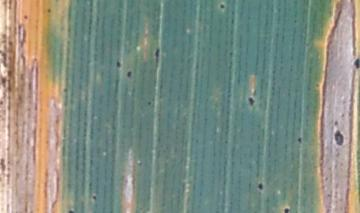tarspot: (333, 129, 345, 147), (152, 44, 161, 66), (255, 181, 265, 193), (113, 58, 123, 70), (353, 56, 360, 72), (246, 96, 255, 108), (296, 135, 304, 146), (126, 69, 133, 79), (90, 194, 98, 202), (146, 99, 154, 107), (22, 12, 29, 21), (219, 2, 226, 10), (46, 7, 53, 15), (282, 207, 290, 213), (63, 209, 75, 213)
